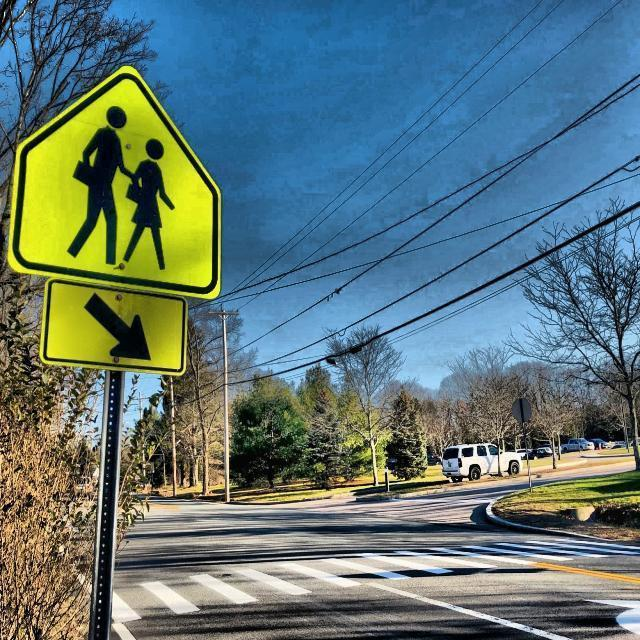crosswalk: (116, 536, 640, 624)
